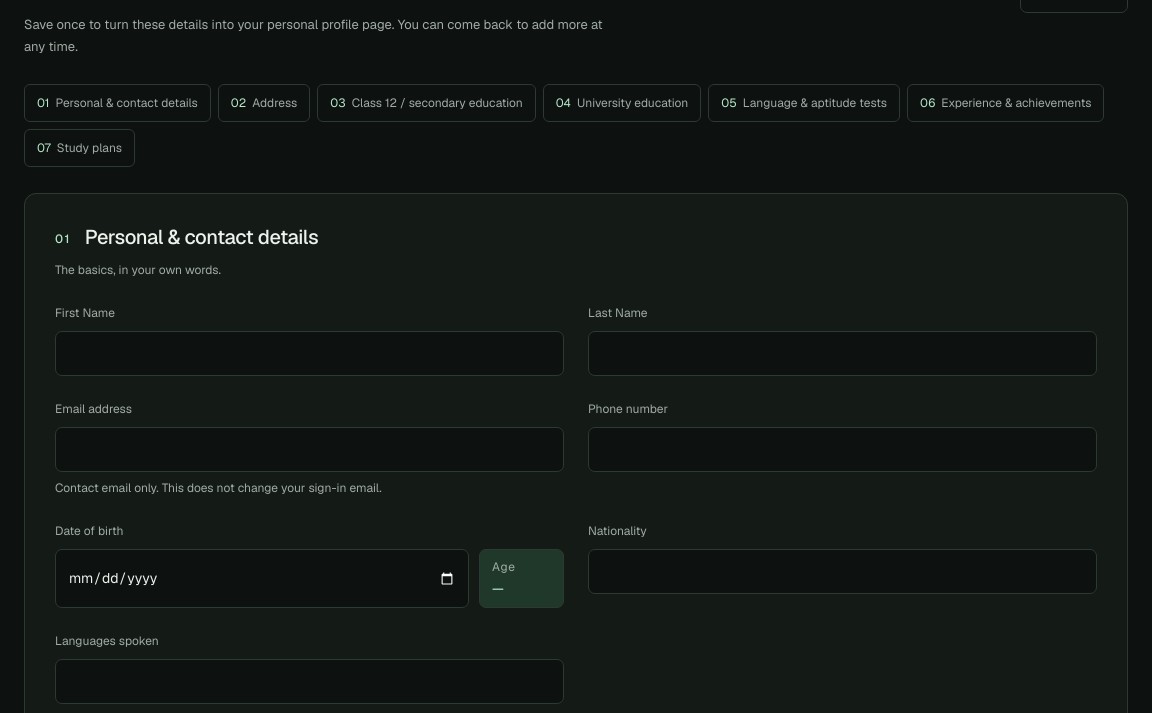
Test: account switch cannot save old profile to a new account
This screenshot has width=1152, height=713.
(page scrolled)
Type "Private" into the field labelled "First Name". click: (310, 354)
box: [55, 331, 564, 376]
(page scrolled)
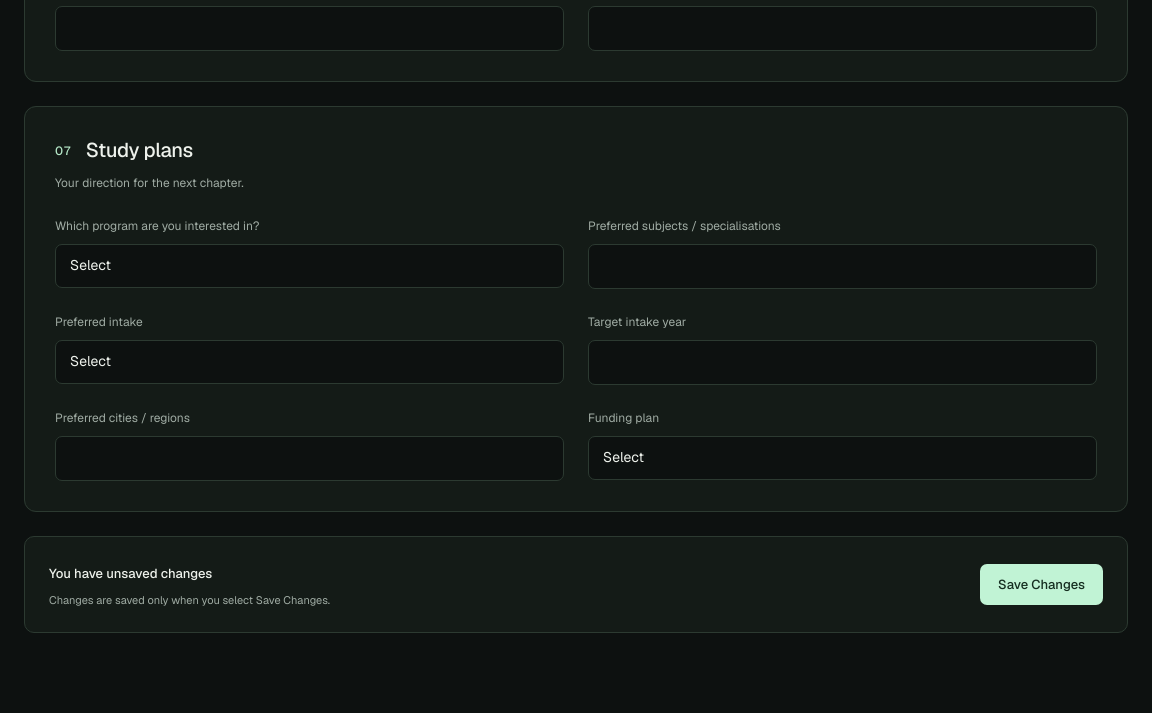
Click the button "Save Changes". click: (1042, 585)
box: [980, 564, 1103, 606]
(page scrolled)
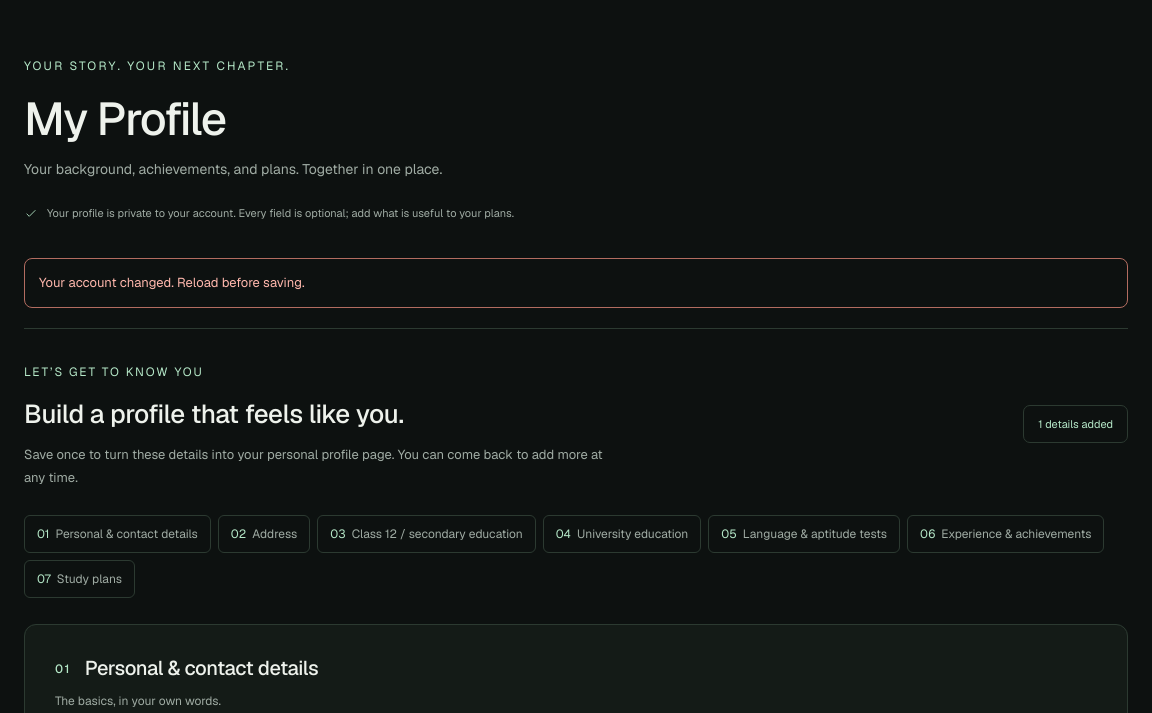
Expected: the message "Your account changed. Reload before saving." is shown, [24, 258, 1128, 308]
